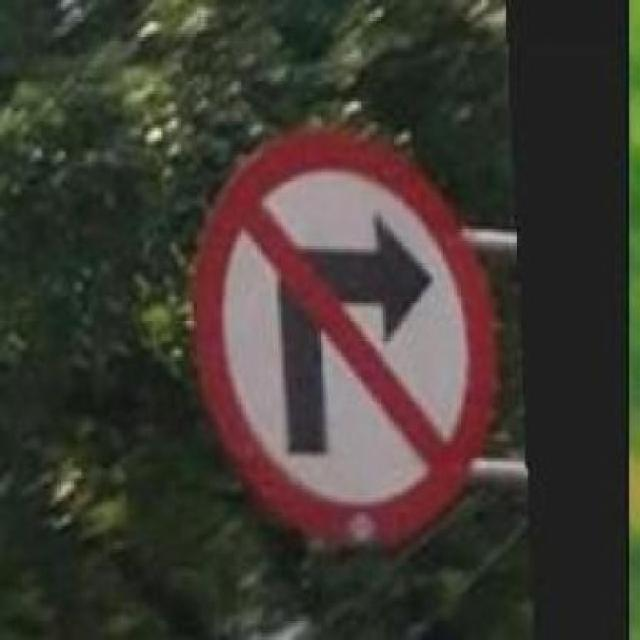right turn prohibited: (178, 115, 503, 562)
